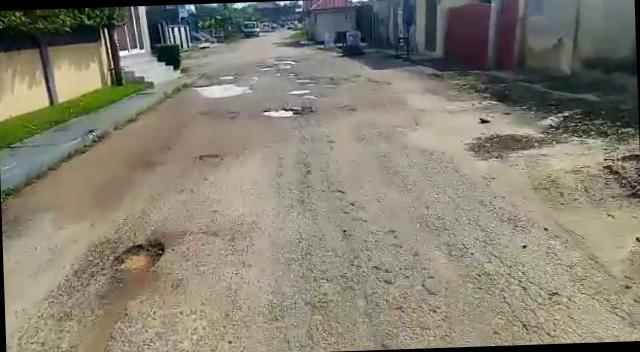pothole: (114, 240, 162, 274), (196, 82, 253, 98), (258, 105, 306, 120), (290, 88, 318, 96)
